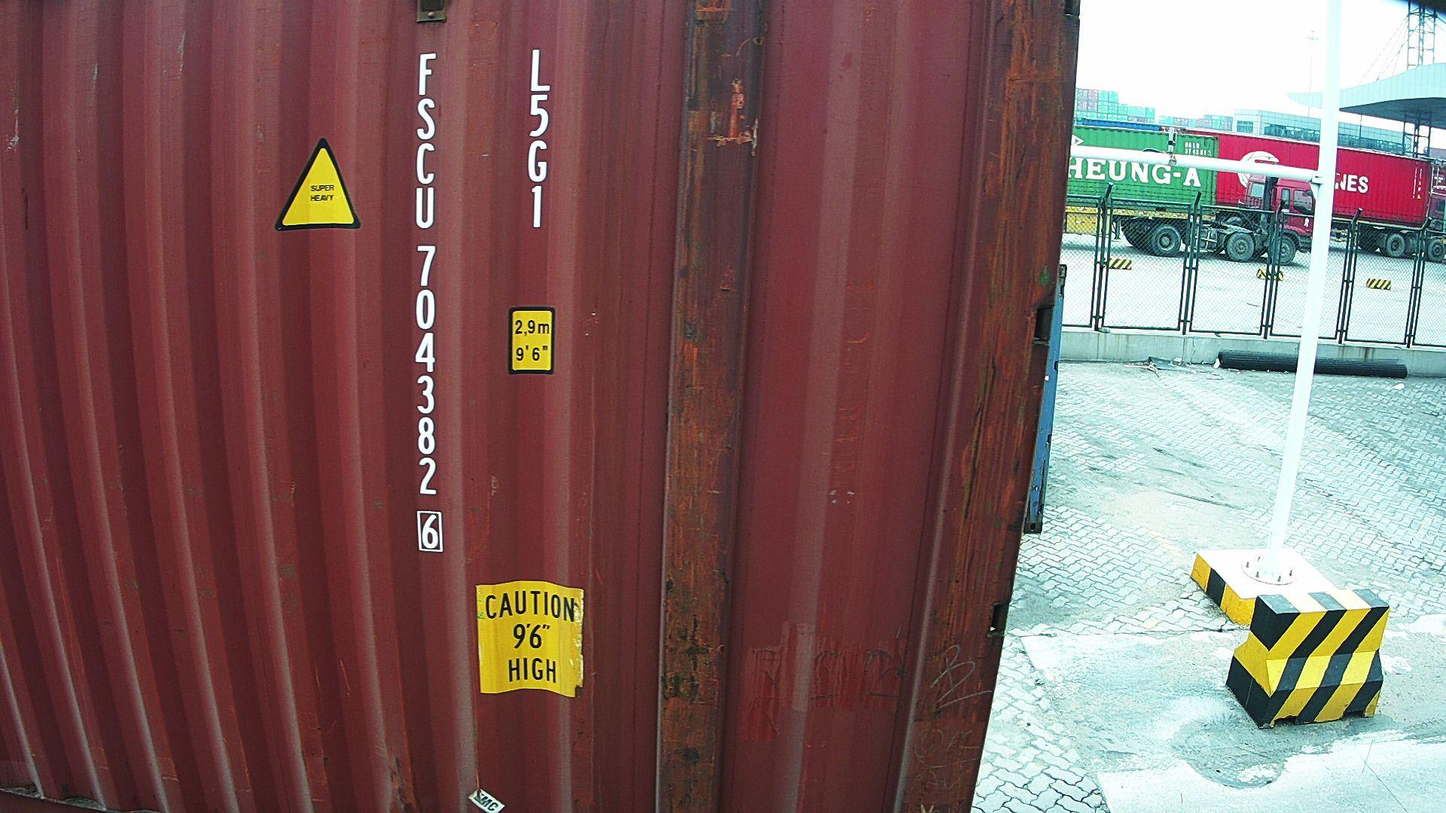container-numbers: (399, 46, 447, 556), (519, 46, 560, 236)
